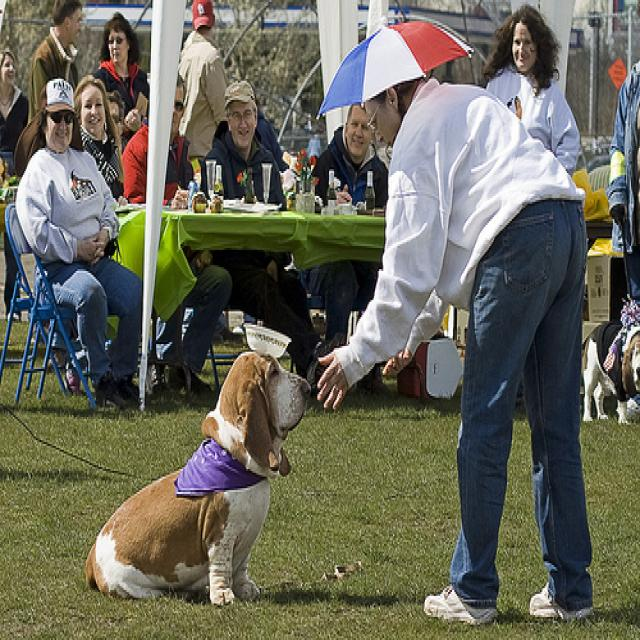dog-basset_hound: (78, 338, 315, 609)
